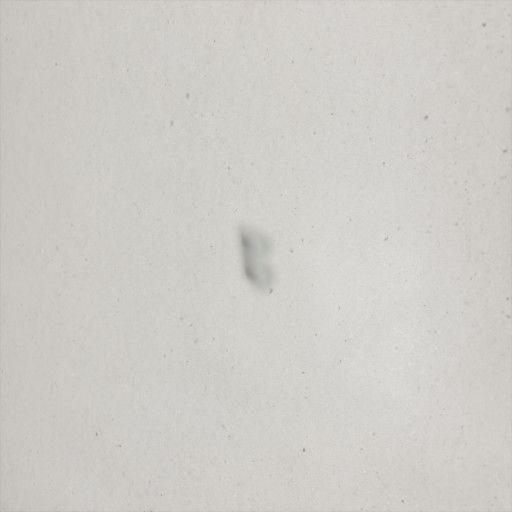lego: (236, 221, 276, 295)
